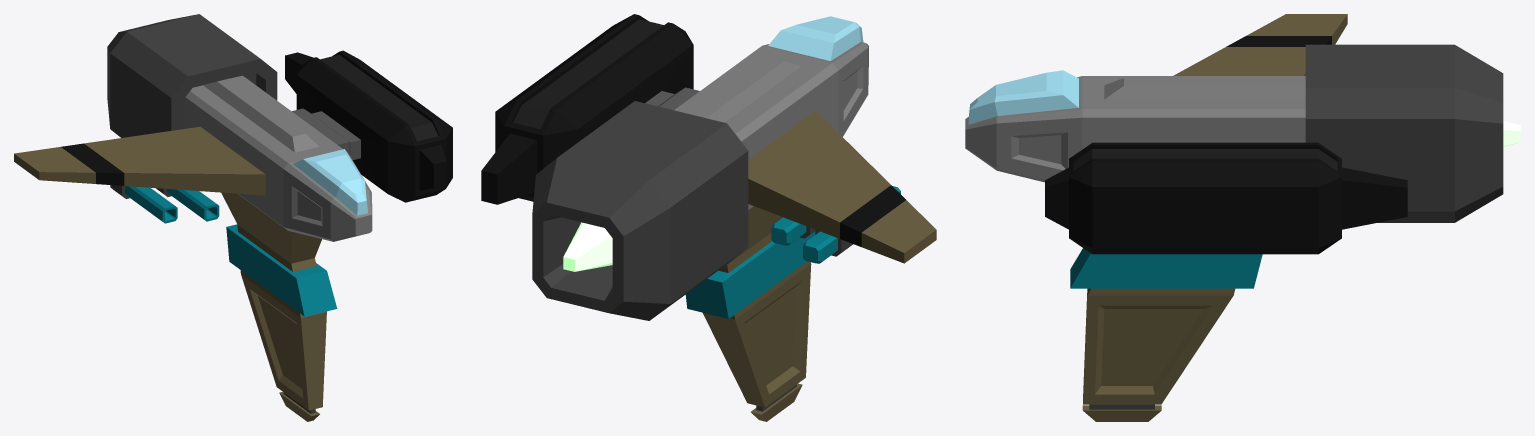
The model's file is LPSP_Frigate2_fixed.gltf.
3 views of the same model, side by side, from view 1: azimuth 30°, elevation 25°; view 2: azimuth 150°, elevation 25°; view 3: azimuth 270°, elevation 25° (orthographic). The views are drawn at different scales.
Parts seen in each view (by area): view 1: Cube; view 2: Cube; view 3: Cube.
Boxes of the visible parts, x1=… form: Cube: x1=14, y1=14, x2=452, y2=421; Cube: x1=481, y1=14, x2=936, y2=421; Cube: x1=965, y1=14, x2=1520, y2=421.
Bounding box in the file's own units: 6.28 × 5.22 × 7.42.
2 materials, 1 textured.
